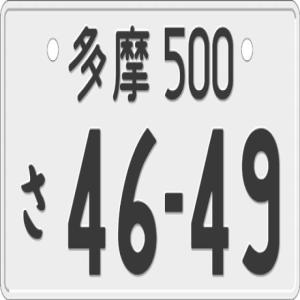Plate: (1, 1, 300, 299)
